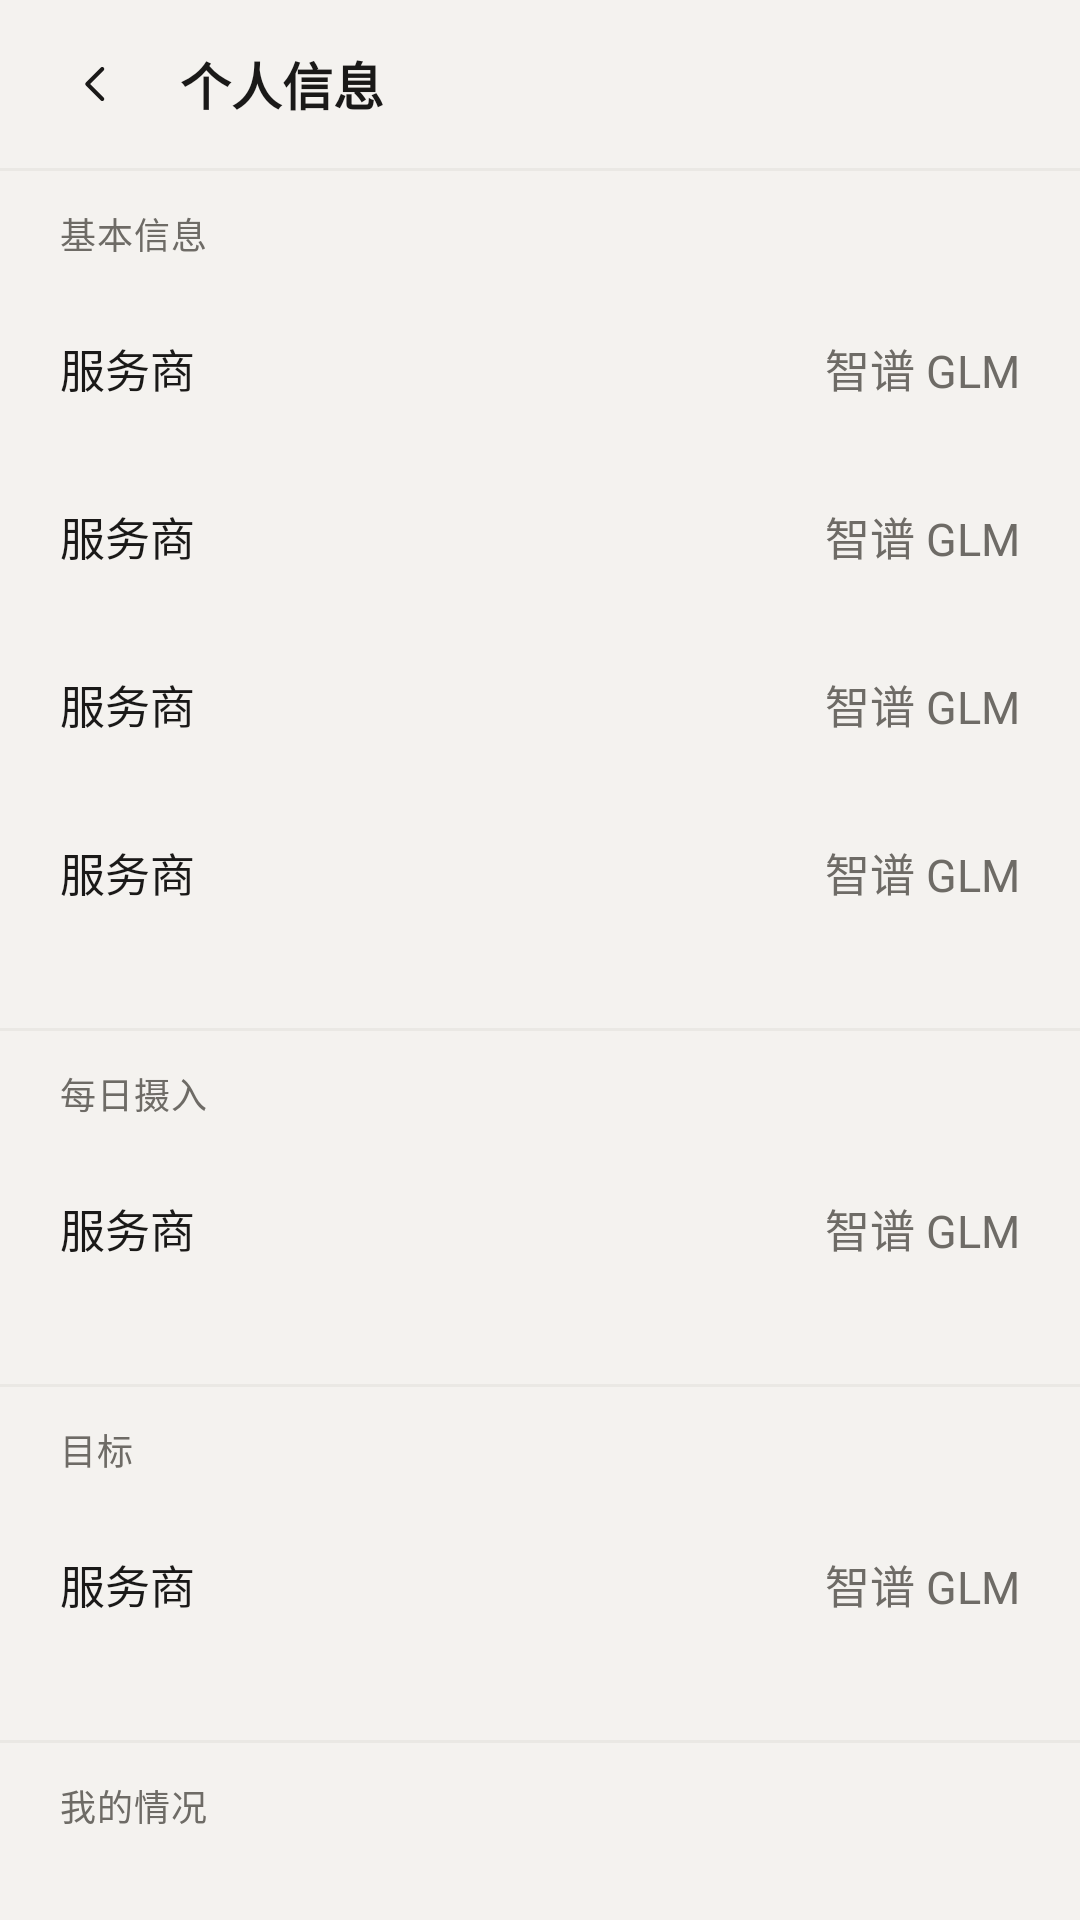

Screen size 1080px x 1920px. Icon name, then its center in pixels as [x,y]:
返回: [95,84]
